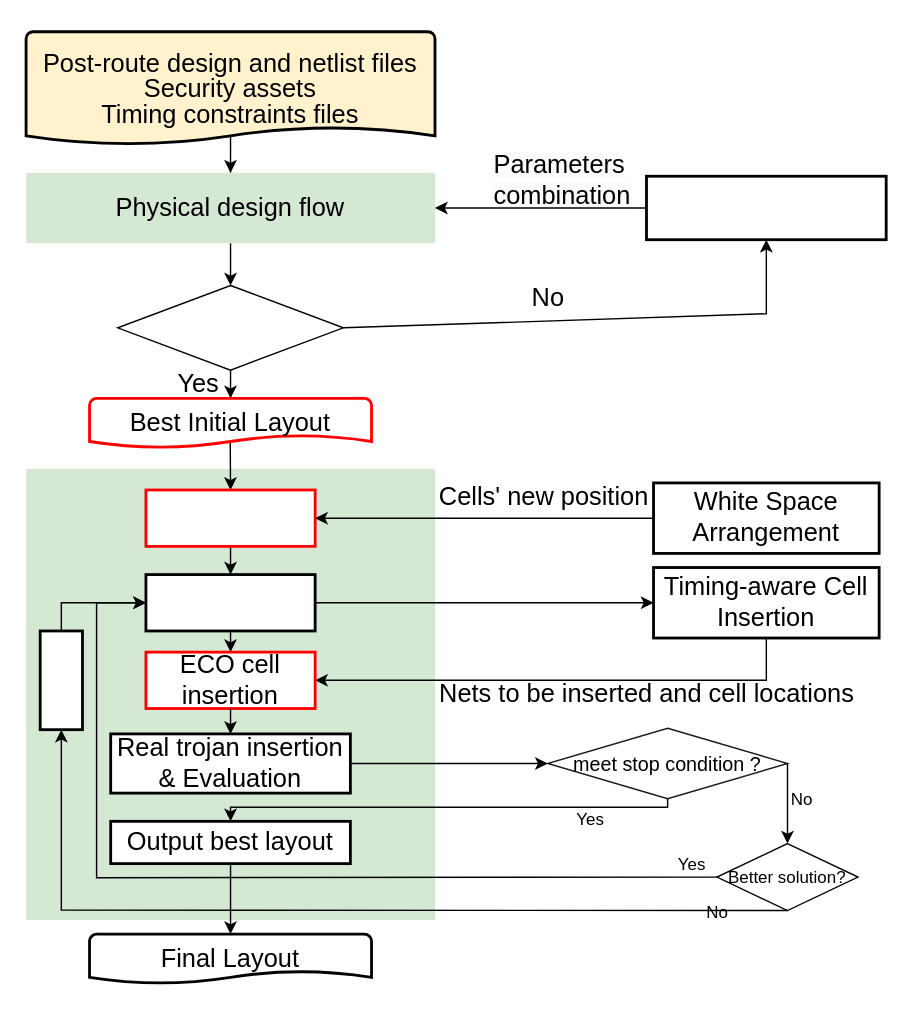
Some shapes in this 911 by 1031 pixel diagram are drawn without their labels. Here are the shapes that lost their labels. From the top down, the box of each, then its label:
(644, 174, 887, 240): Grid Search Parameter Tuning
(116, 284, 343, 370): Search done?
(144, 488, 316, 547): Re-place cells
(144, 572, 316, 632): Timing Analysis
(38, 629, 83, 730): Rollback
